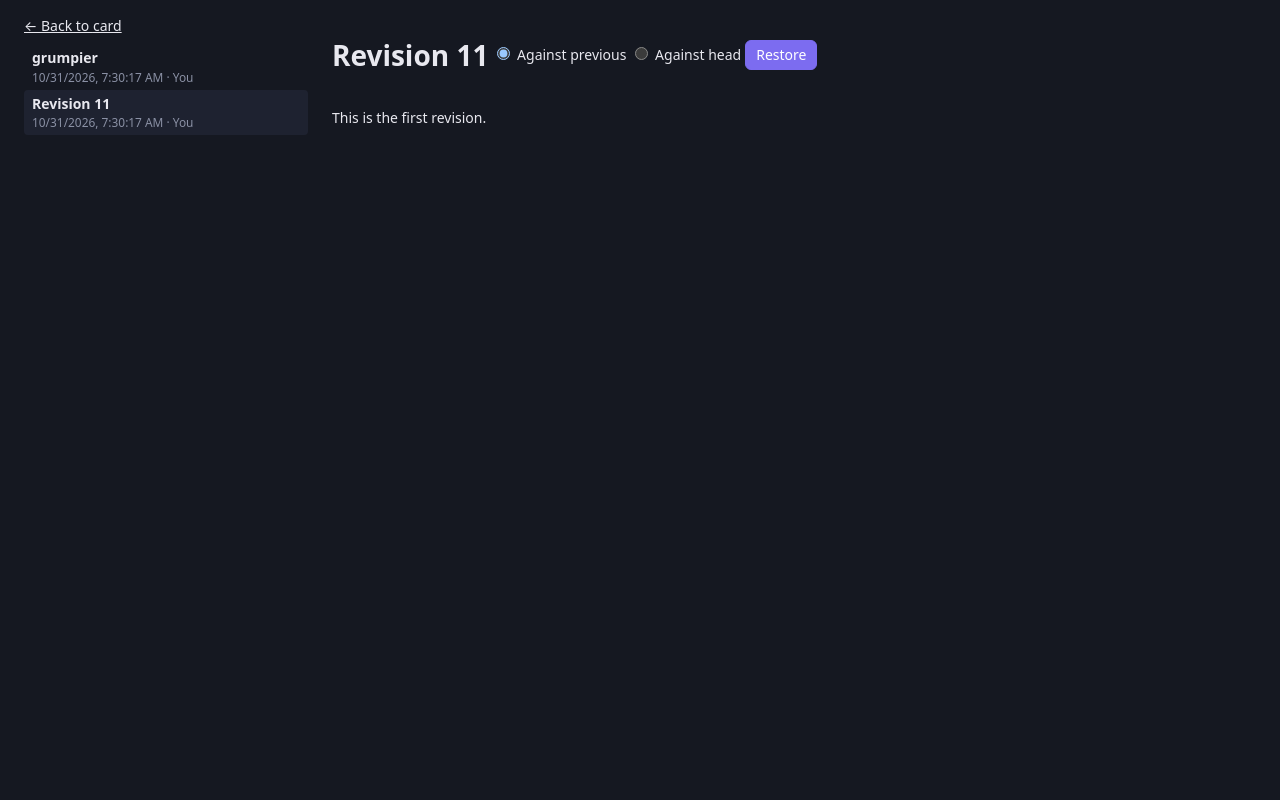
it: a revision with another image asks which image to keep
Click the button "Restore".
click(781, 55)  # box [745,40,817,70]
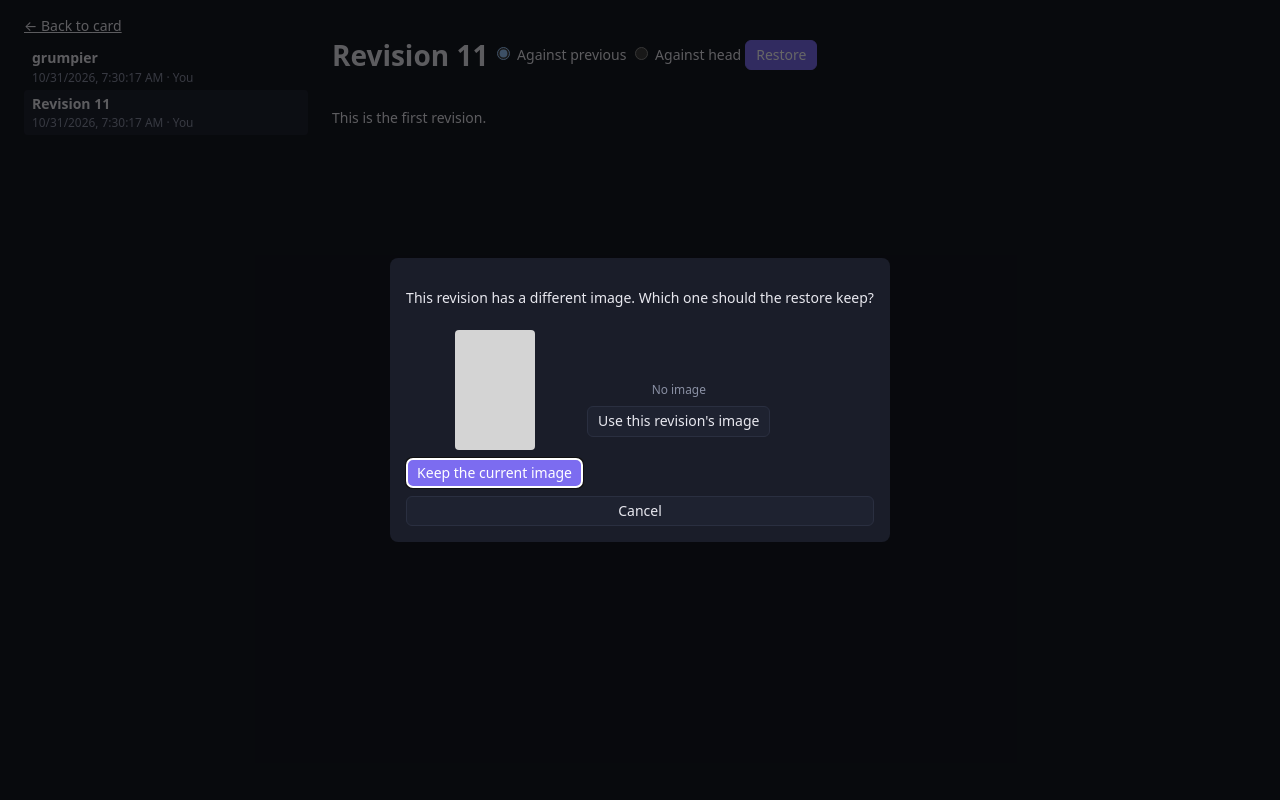
Expected: the dialog named "Choose an image" shows "No image", [652,381,706,397]
Click the button "Use this revision's image".
click(679, 422)  # box [587,406,770,437]
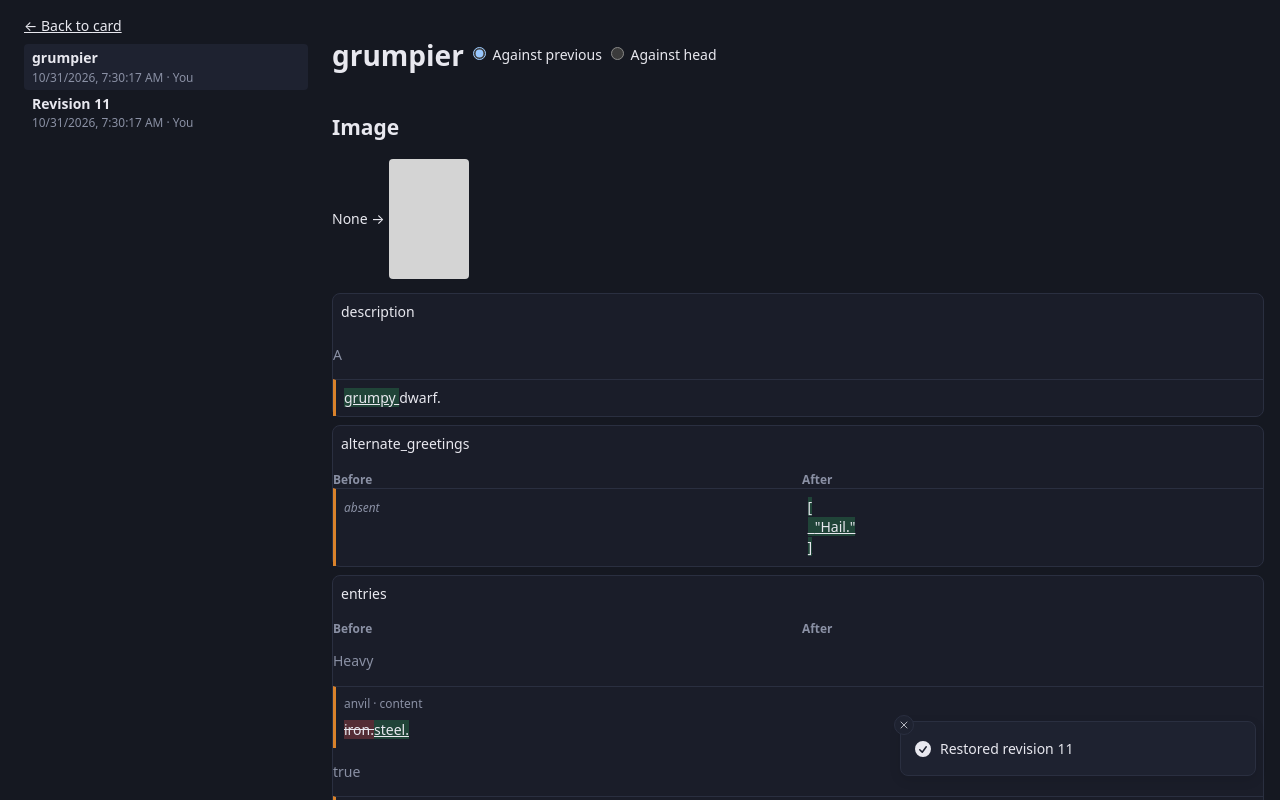
Expected: the dialog is gone
